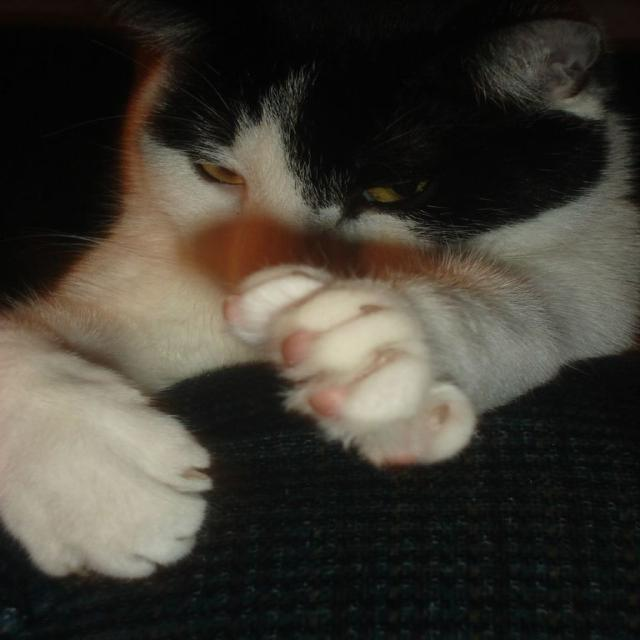Cat: (0, 0, 639, 579)
